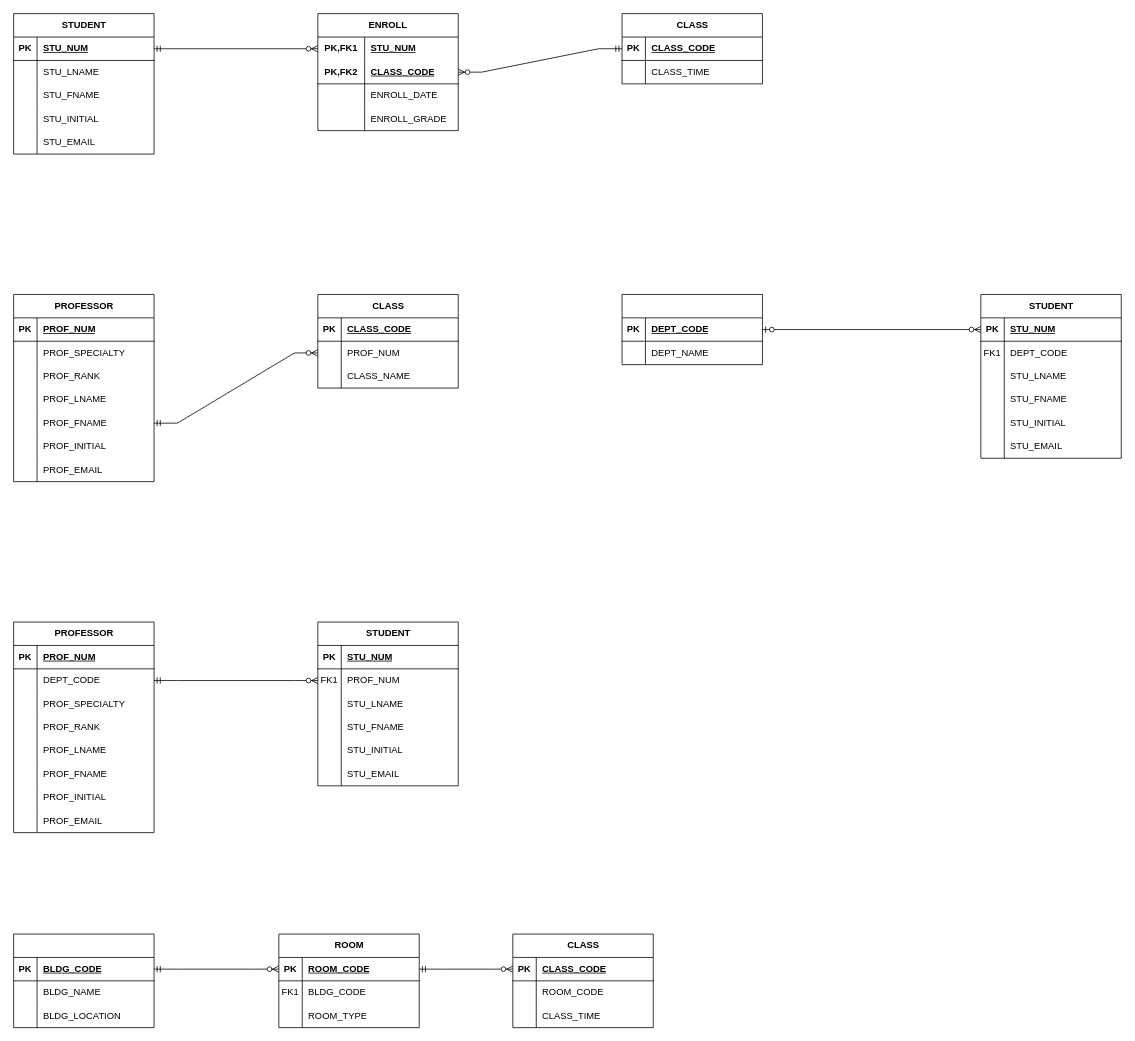
The diagram is 1135 pixels wide and 1041 high, and some of its shapes have lost their labels. Each missing label, with the box of its shape:
BUILDING: (13, 933, 154, 1028)
DEPARTMENT: (621, 294, 762, 365)
